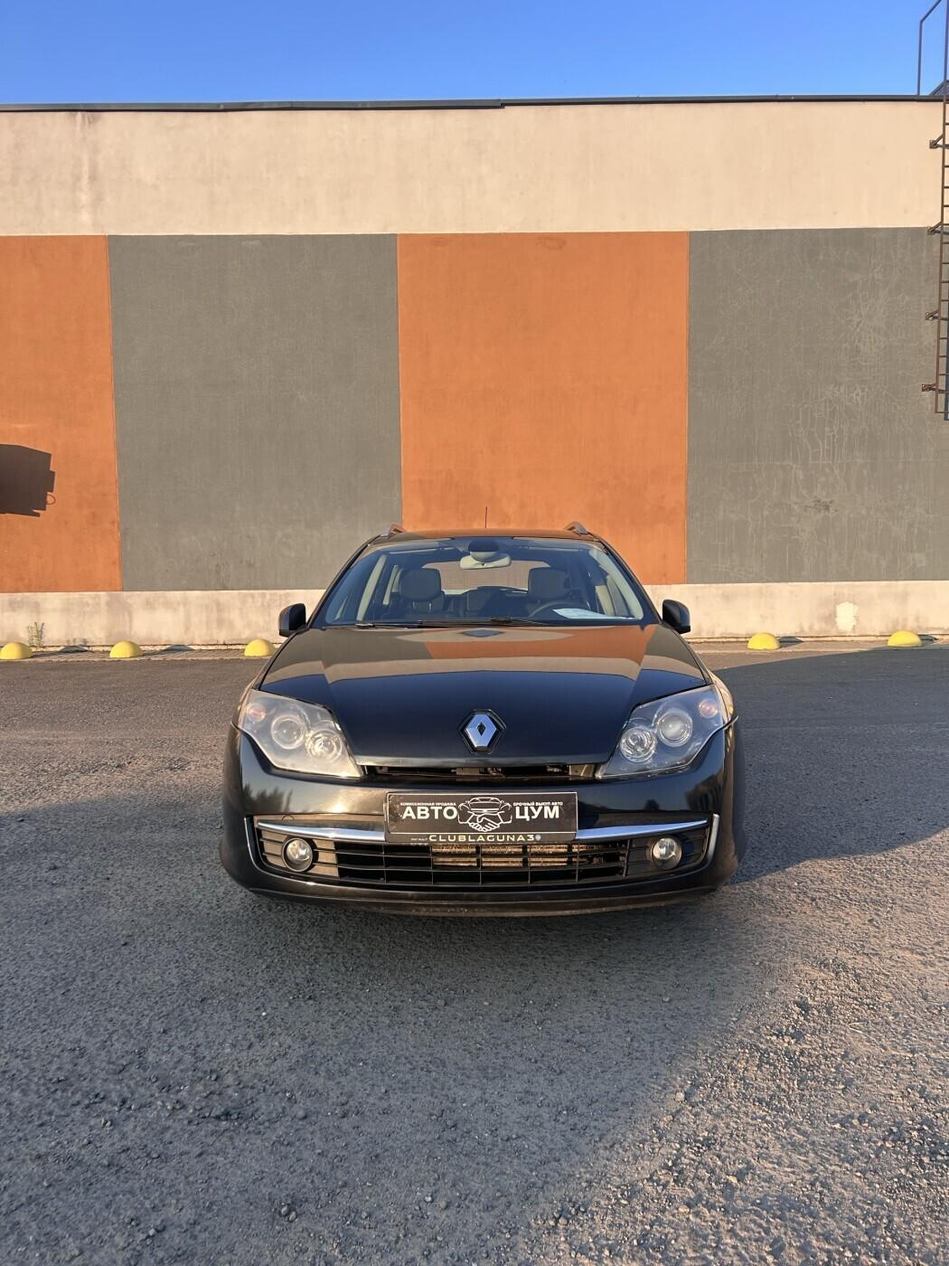Laguna_2007-2011: (221, 532, 744, 912)
